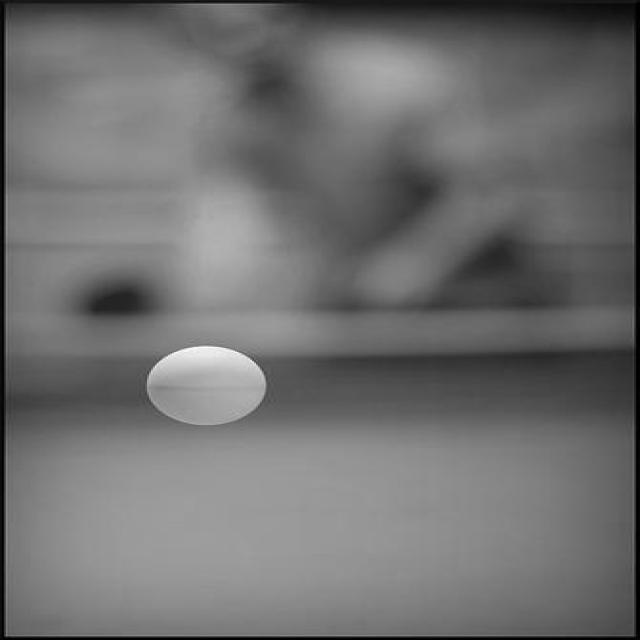ping-pong-ball: (146, 346, 268, 428)
